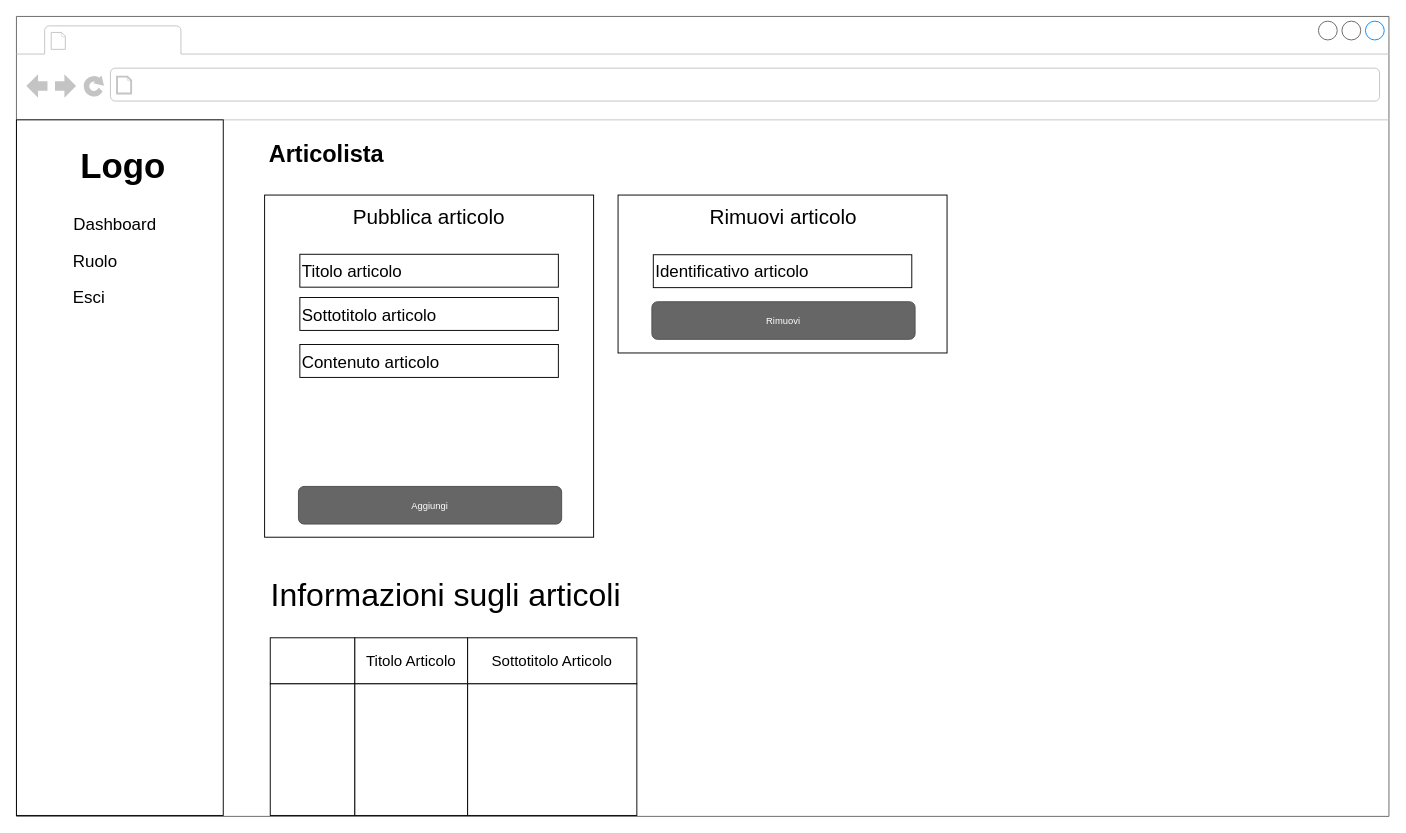
Image size: 1406x833. Some labels were removed from this diagram. Here are the shapes that lost their labels. From the top down, the centre of each, then its label:
At point 124,39: "Page 1".
At point 256,84: "https://www.default.com".
At point 312,660: "ID Articolo".
